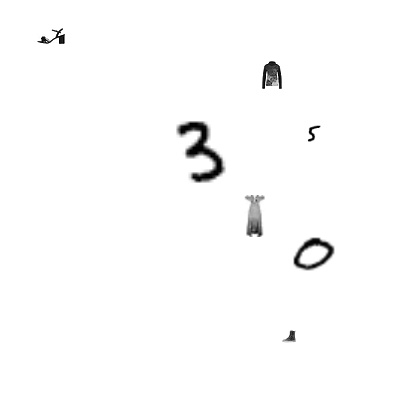0: (284, 224, 340, 280)
3: (159, 107, 243, 191)
5: (301, 121, 323, 143)
Ankle_boot: (282, 329, 296, 343)
Dress: (233, 195, 275, 237)
Pullover: (258, 61, 286, 89)
Sandal: (37, 22, 65, 50)
